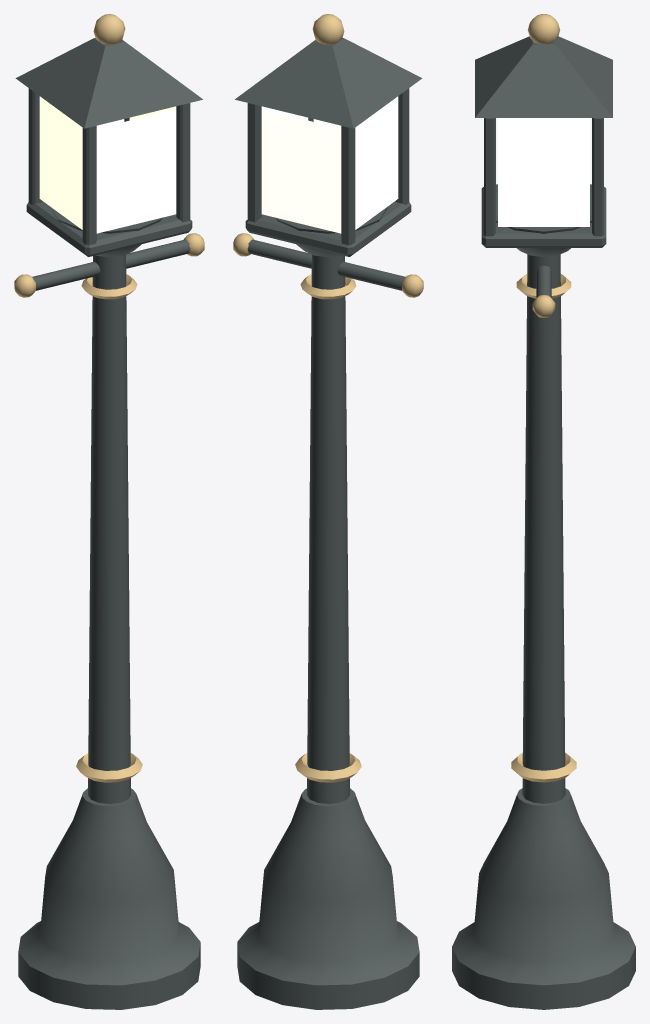
File: lamp_post.glb
3 views of the same model, side by side, from view 1: azimuth 30°, elevation 25°; view 2: azimuth 150°, elevation 25°; view 3: azimuth 270°, elevation 25° (orthographic).
Visible parts, largest first — view 1: lamp_post; view 2: lamp_post; view 3: lamp_post.
Boxes of the visible parts, x1,y1,x2,y2 form: lamp_post: (14,14,204,1009); lamp_post: (233,14,423,1009); lamp_post: (452,14,635,1009).
Size of the model in its own units: 0.4018 by 1.95 by 0.34.
